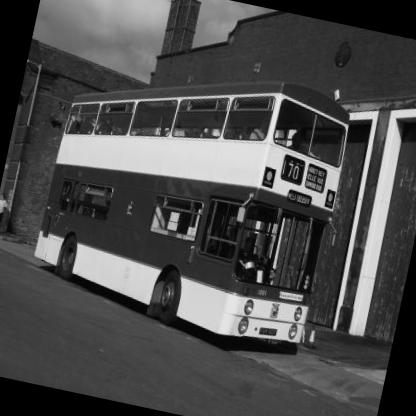bus: (15, 47, 386, 375)
